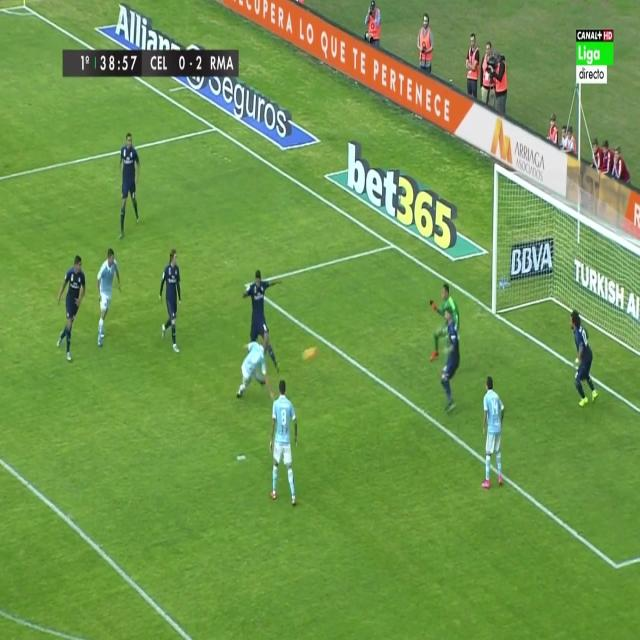Ball: (300, 341, 318, 367)
Goalkeeper: (426, 280, 459, 366)
Player: (241, 268, 284, 372), (268, 376, 300, 506), (55, 251, 87, 368), (569, 306, 602, 408), (481, 372, 506, 491), (95, 246, 123, 352), (158, 246, 183, 356), (438, 303, 461, 415), (118, 133, 141, 243), (233, 337, 267, 400)
